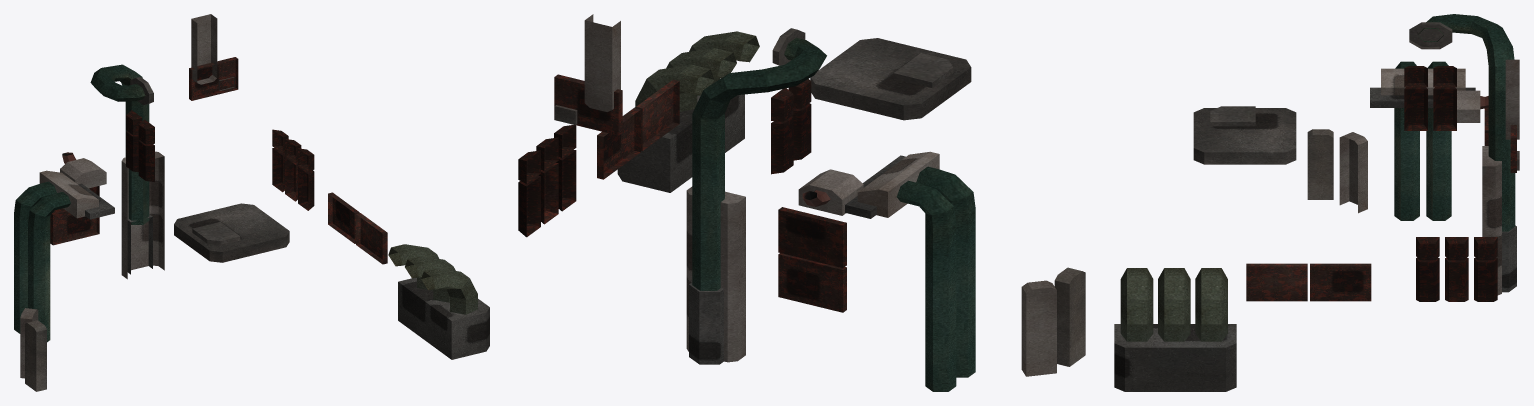
The model's file is MainLabAccessories.obj.
3 renders of one model, left to right at view 1: azimuth 30°, elevation 25°; view 2: azimuth 150°, elevation 25°; view 3: azimuth 270°, elevation 25°, orthographic. The views are drawn at different scales.
Parts seen in each view (by area): view 1: Main_Lab_Accessories_MainLabAccessories; view 2: Main_Lab_Accessories_MainLabAccessories; view 3: Main_Lab_Accessories_MainLabAccessories.
Part boxes in pixels (box(x1,y1,x2,y2)): Main_Lab_Accessories_MainLabAccessories: box(14, 14, 489, 391); Main_Lab_Accessories_MainLabAccessories: box(518, 14, 1085, 391); Main_Lab_Accessories_MainLabAccessories: box(1114, 14, 1519, 391).
Size of the model in its own units: 17.79 by 11.14 by 14.71.
Materials: 1 (1 with a texture image).
